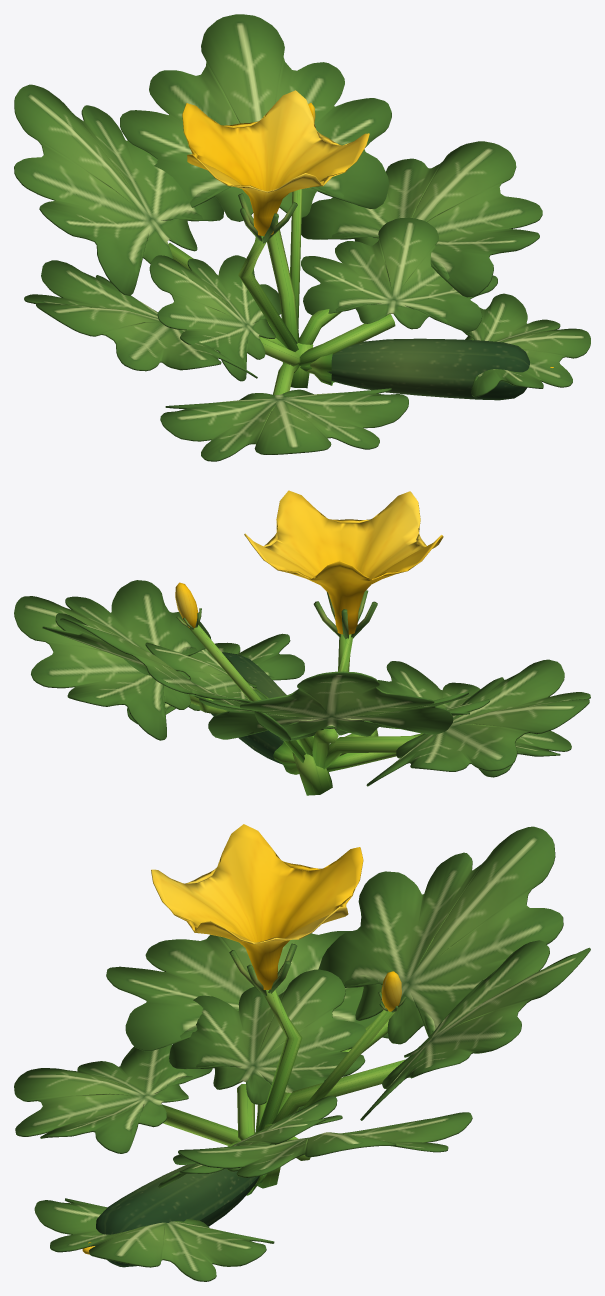
File: NP_Zucchini_Flowering.fbx
3 views of the same model, one above another, from view 1: azimuth 30°, elevation 25°; view 2: azimuth 150°, elevation 25°; view 3: azimuth 270°, elevation 25° (orthographic). The views are drawn at different scales.
Visible parts, largest first — view 1: NP_Zucchini_Flowering; view 2: NP_Zucchini_Flowering; view 3: NP_Zucchini_Flowering.
Boxes of the visible parts, bbox=[...] form: NP_Zucchini_Flowering: bbox=[14, 14, 590, 461]; NP_Zucchini_Flowering: bbox=[14, 490, 590, 795]; NP_Zucchini_Flowering: bbox=[14, 824, 590, 1281].
Bounding box in the file's own units: 79.95 × 41.33 × 71.59.
